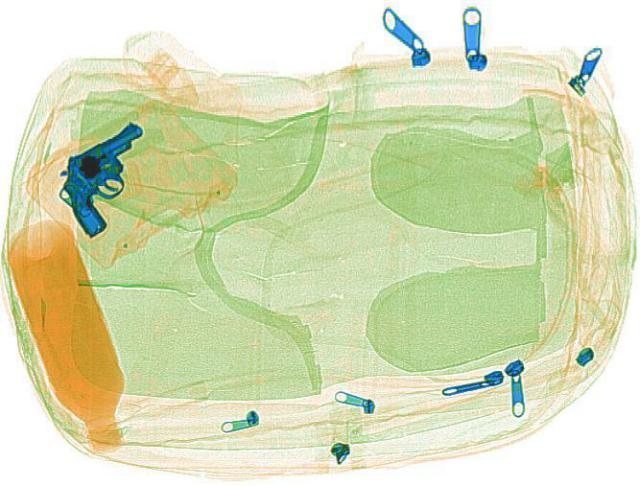Gun: (22, 116, 198, 235)
